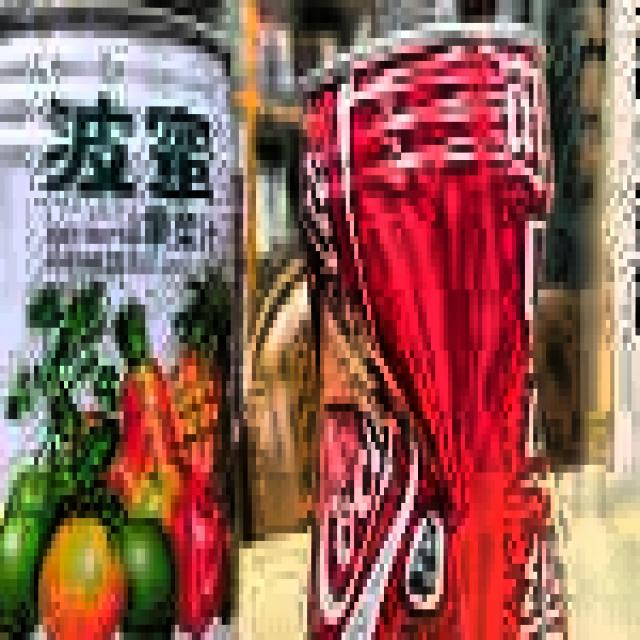metal: (290, 0, 580, 640), (0, 0, 252, 640)
